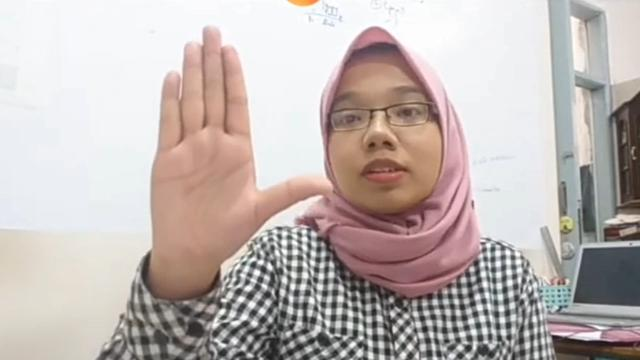B: (148, 26, 334, 266)
